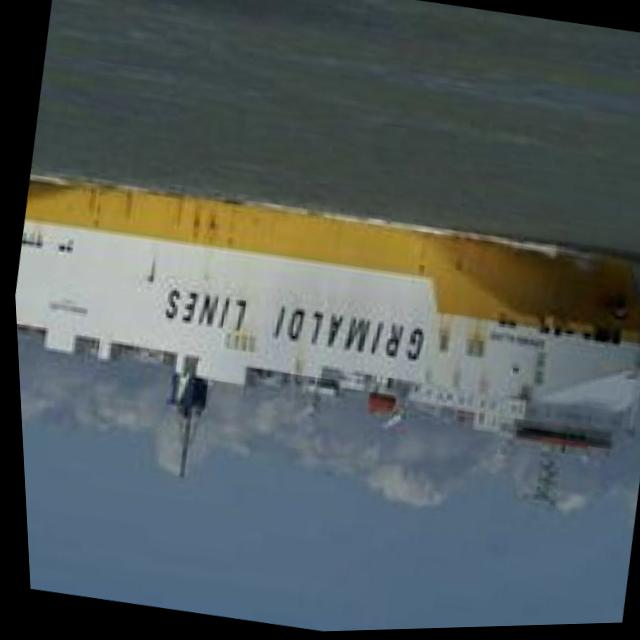ship2: (12, 174, 640, 517)
